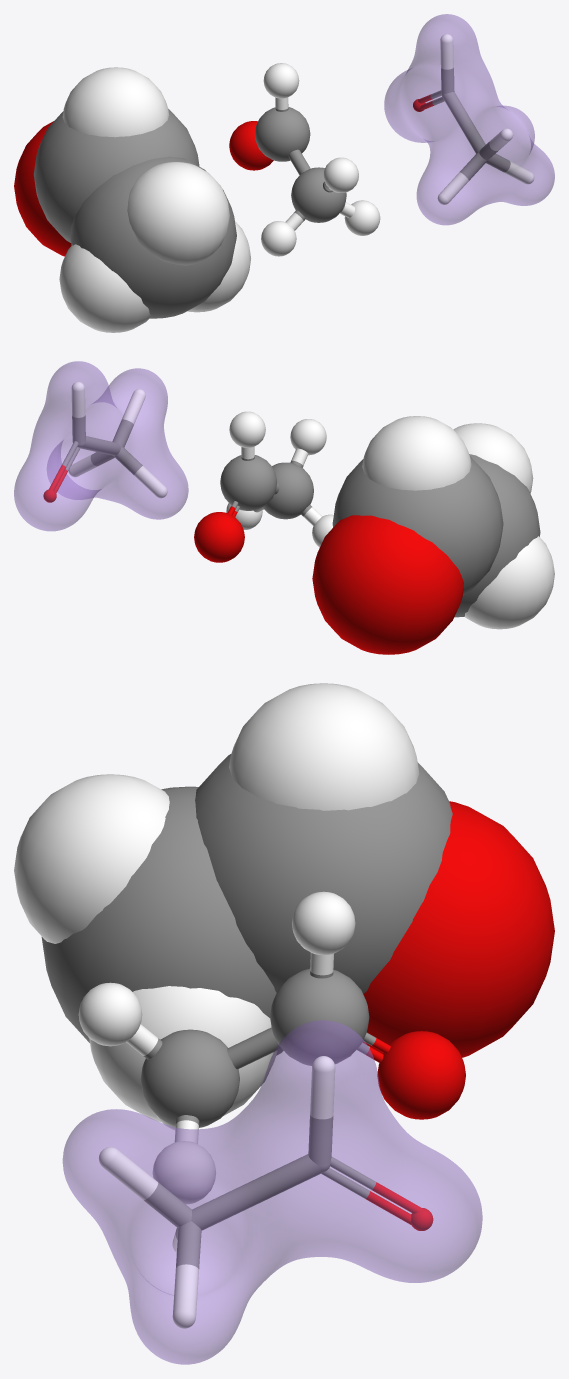
Rendered from ethanal.fbx.
3 renders of one model, top to bottom at view 1: azimuth 30°, elevation 25°; view 2: azimuth 150°, elevation 25°; view 3: azimuth 270°, elevation 25°, orthographic. The views are drawn at different scales.
Visible parts, largest first — view 1: vdW_surface, C_2, C, H_2, H, H_4, O, C_3, C_4, H_3, O_2, H_6 (+5 smaller); view 2: vdW_surface, O, C, H, H_4, C_2, H_2, C_3, O_2, C_4, H_5, H_6 (+7 smaller); view 3: vdW_surface, C, O, C_2, H, H_2, H_3, C_3, C_4, O_2, H_5, H_6 (+9 smaller).
Boxes of the visible parts, x1=… form: vdW_surface: x1=384, y1=14, x2=554, y2=225; C_2: x1=70, y1=156, x2=236, y2=318; C: x1=33, y1=109, x2=199, y2=242; H_2: x1=127, y1=162, x2=229, y2=265; H: x1=62, y1=67, x2=169, y2=137; H_4: x1=59, y1=244, x2=151, y2=332; O: x1=14, y1=121, x2=71, y2=256; C_3: x1=255, y1=107, x2=310, y2=161; C_4: x1=291, y1=167, x2=346, y2=222; H_3: x1=187, y1=221, x2=250, y2=312; O_2: x1=229, y1=121, x2=273, y2=170; H_6: x1=323, y1=157, x2=358, y2=192; vdW_surface: x1=14, y1=361, x2=188, y2=531; O: x1=312, y1=515, x2=463, y2=654; C: x1=332, y1=456, x2=503, y2=595; H: x1=362, y1=416, x2=471, y2=490; H_4: x1=464, y1=536, x2=554, y2=629; C_2: x1=454, y1=454, x2=540, y2=617; H_2: x1=453, y1=423, x2=533, y2=493; C_3: x1=220, y1=455, x2=276, y2=510; O_2: x1=194, y1=512, x2=244, y2=562; C_4: x1=262, y1=462, x2=313, y2=519; H_5: x1=229, y1=411, x2=265, y2=447; H_6: x1=290, y1=419, x2=326, y2=455; vdW_surface: x1=62, y1=1020, x2=482, y2=1364; C: x1=195, y1=754, x2=452, y2=993; O: x1=363, y1=801, x2=554, y2=1057; C_2: x1=41, y1=786, x2=283, y2=1055; H: x1=229, y1=683, x2=419, y2=810; H_2: x1=14, y1=774, x2=169, y2=943; H_3: x1=89, y1=986, x2=277, y2=1122; C_3: x1=270, y1=968, x2=369, y2=1065; C_4: x1=140, y1=1029, x2=239, y2=1127; O_2: x1=377, y1=1031, x2=465, y2=1119; H_5: x1=292, y1=891, x2=355, y2=955; H_6: x1=78, y1=982, x2=142, y2=1046.
Size of the model in its own units: 1026 by 439 by 555.
